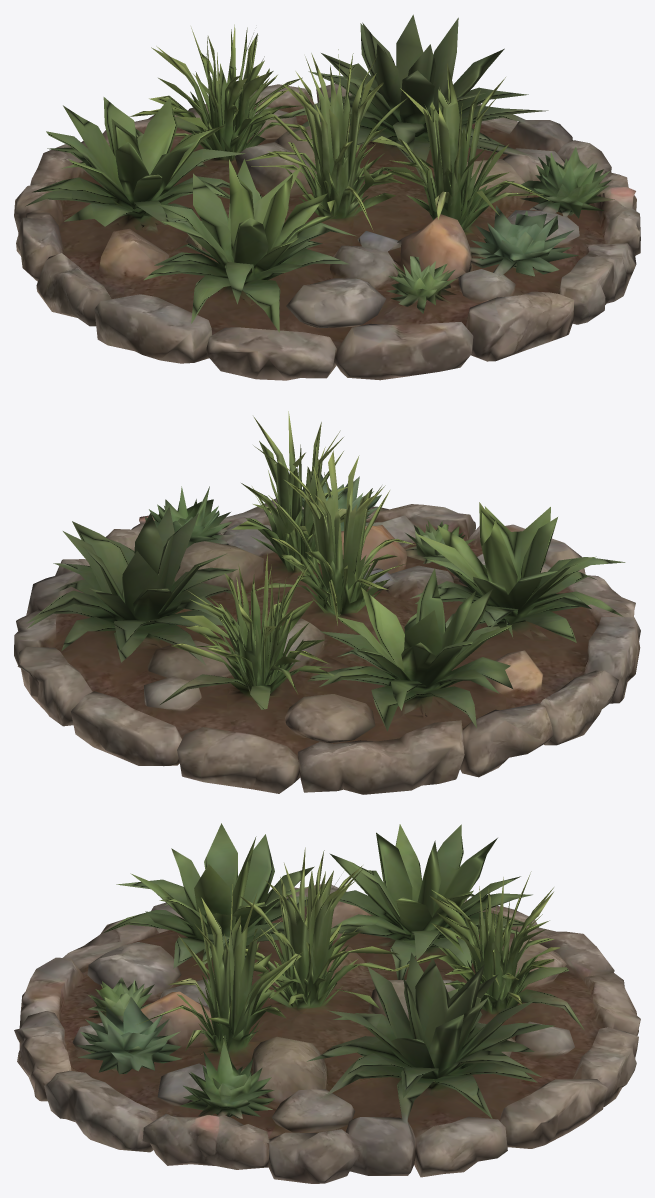
File: round-succulent-planter-3d-model.opt.glb
The picture shows the model from 3 angles, top to bottom: view 1: azimuth 30°, elevation 25°; view 2: azimuth 150°, elevation 25°; view 3: azimuth 270°, elevation 25°; orthographic projection.
Visible parts, largest first — view 1: tripo_node_1d5636ee-0a11-4c02-bbba-efe3afa40167; view 2: tripo_node_1d5636ee-0a11-4c02-bbba-efe3afa40167; view 3: tripo_node_1d5636ee-0a11-4c02-bbba-efe3afa40167.
Boxes of the visible parts, x1=… form: tripo_node_1d5636ee-0a11-4c02-bbba-efe3afa40167: x1=14, y1=14, x2=640, y2=380; tripo_node_1d5636ee-0a11-4c02-bbba-efe3afa40167: x1=14, y1=411, x2=640, y2=794; tripo_node_1d5636ee-0a11-4c02-bbba-efe3afa40167: x1=14, y1=823, x2=640, y2=1183.
Bounding box in the file's own units: 0.9776 × 0.332 × 0.982.
1 material, 1 textured.
